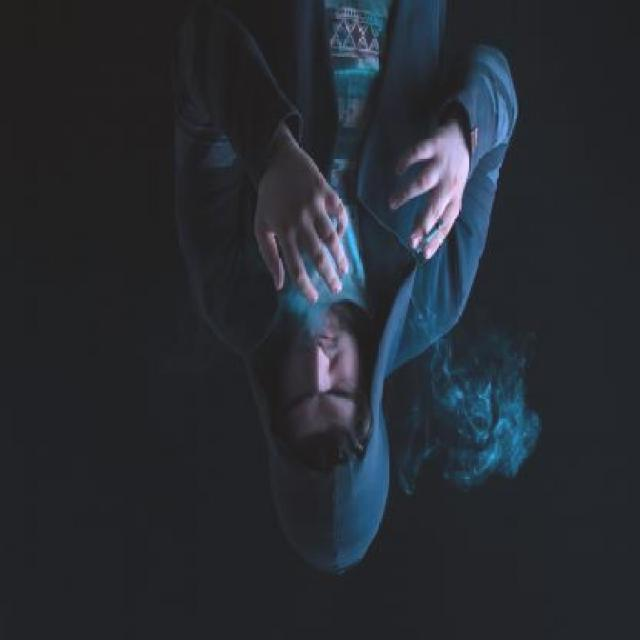smoke: (412, 217, 445, 255)
